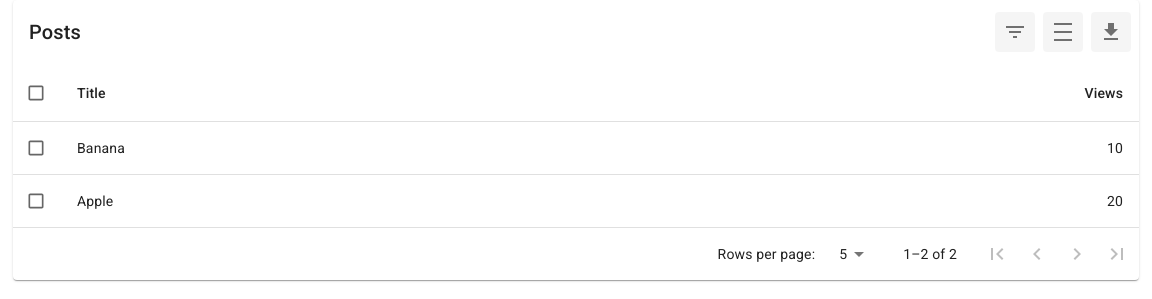
Test: DataTable › selects all rows via the header checkbox and shows the count in the toolbar
Click the checkbox named "select all". click: (36, 93)
box: [26, 83, 46, 103]
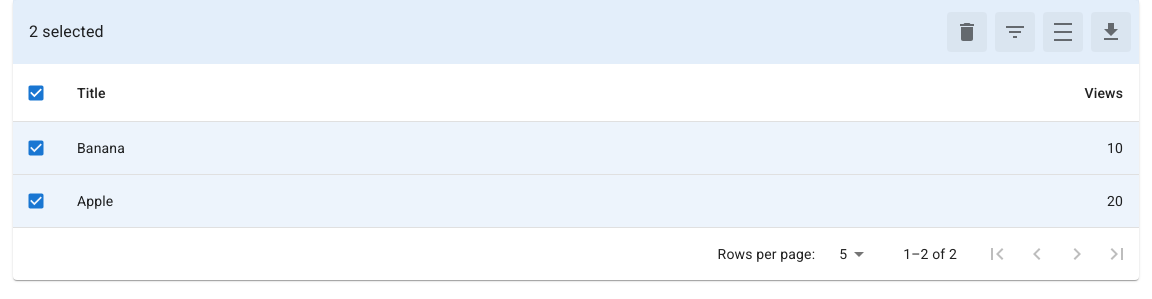
Check: the text "2 selected" is shown, box [29, 18, 104, 46]
